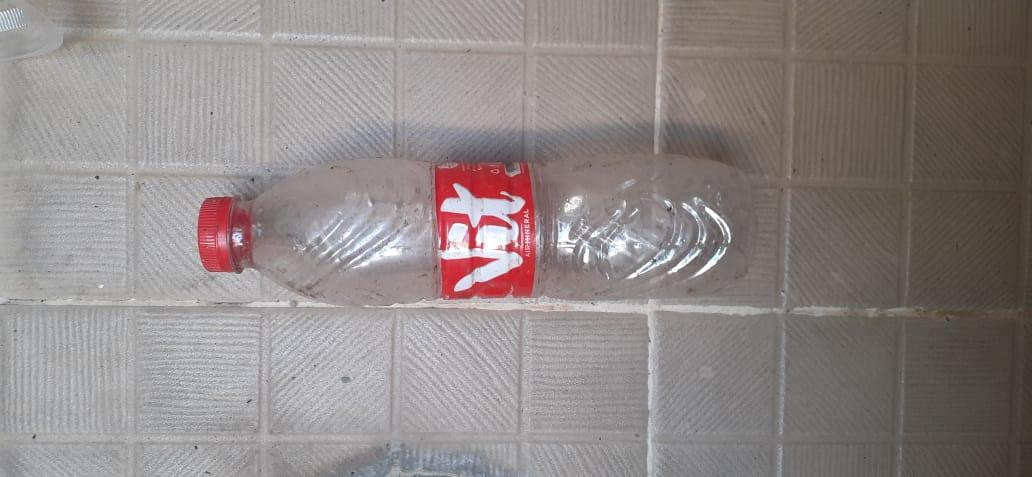Plastik: (197, 151, 752, 306)
